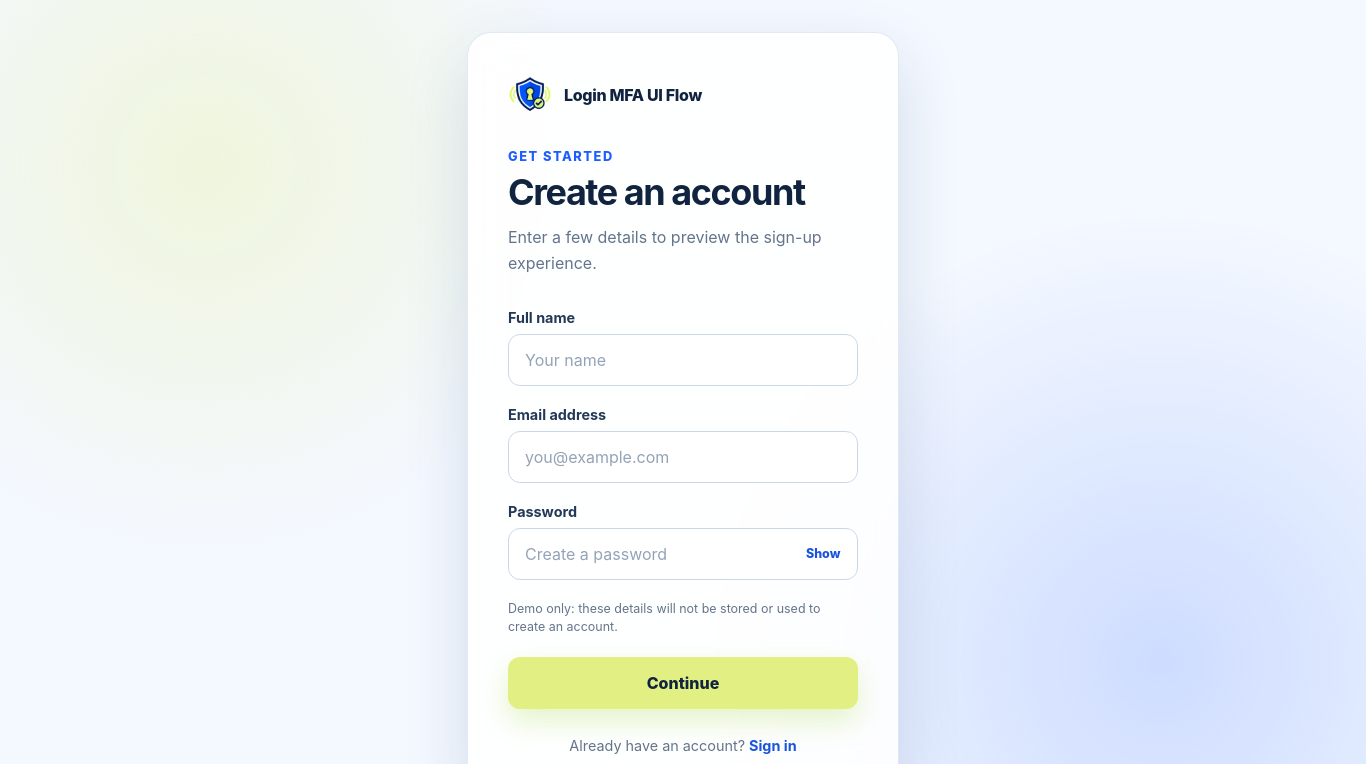
Test: application authentication flow › shows an error when Sign Up uses an existing mock account email
In the field labelled "Full name": [683, 360] box [508, 334, 858, 386], type "Existing User"
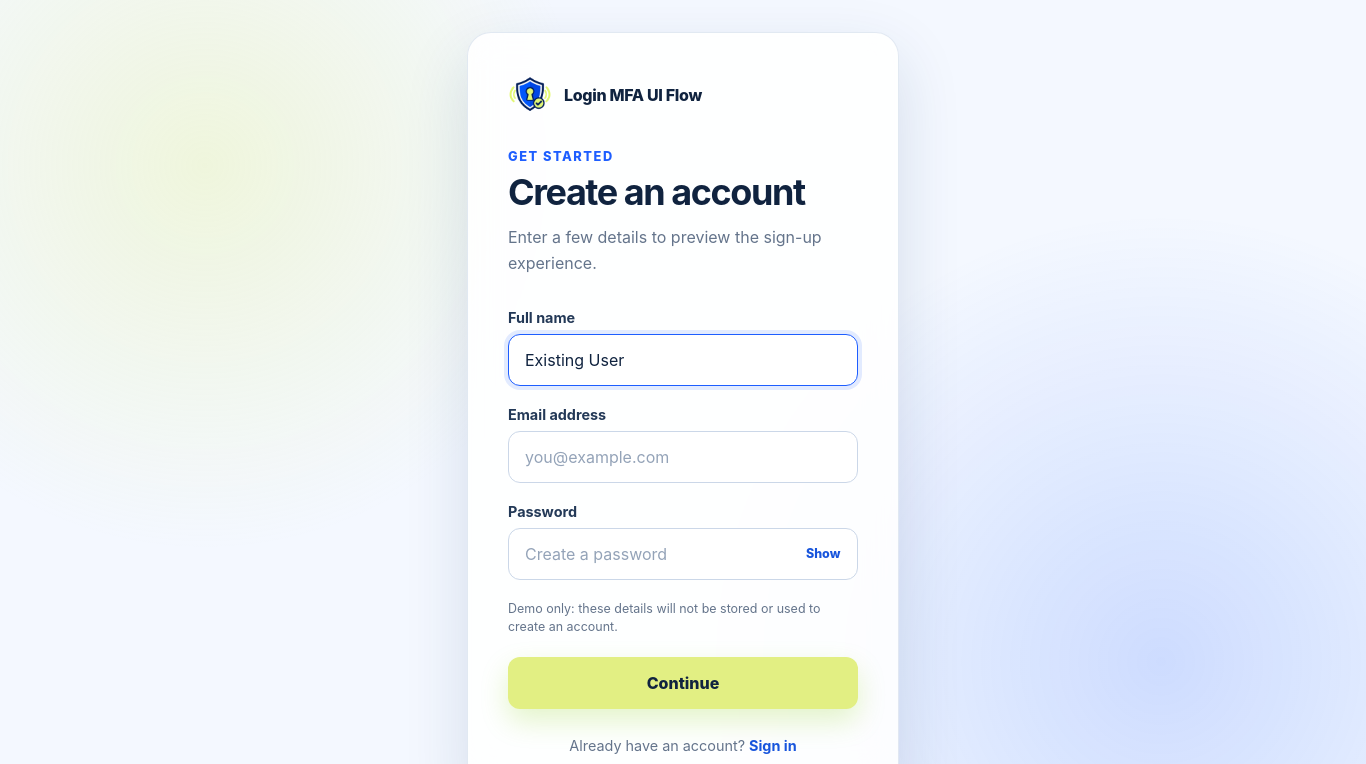
In the field labelled "Email address": [683, 457] box [508, 431, 858, 483], type "VIEWER@example.com"
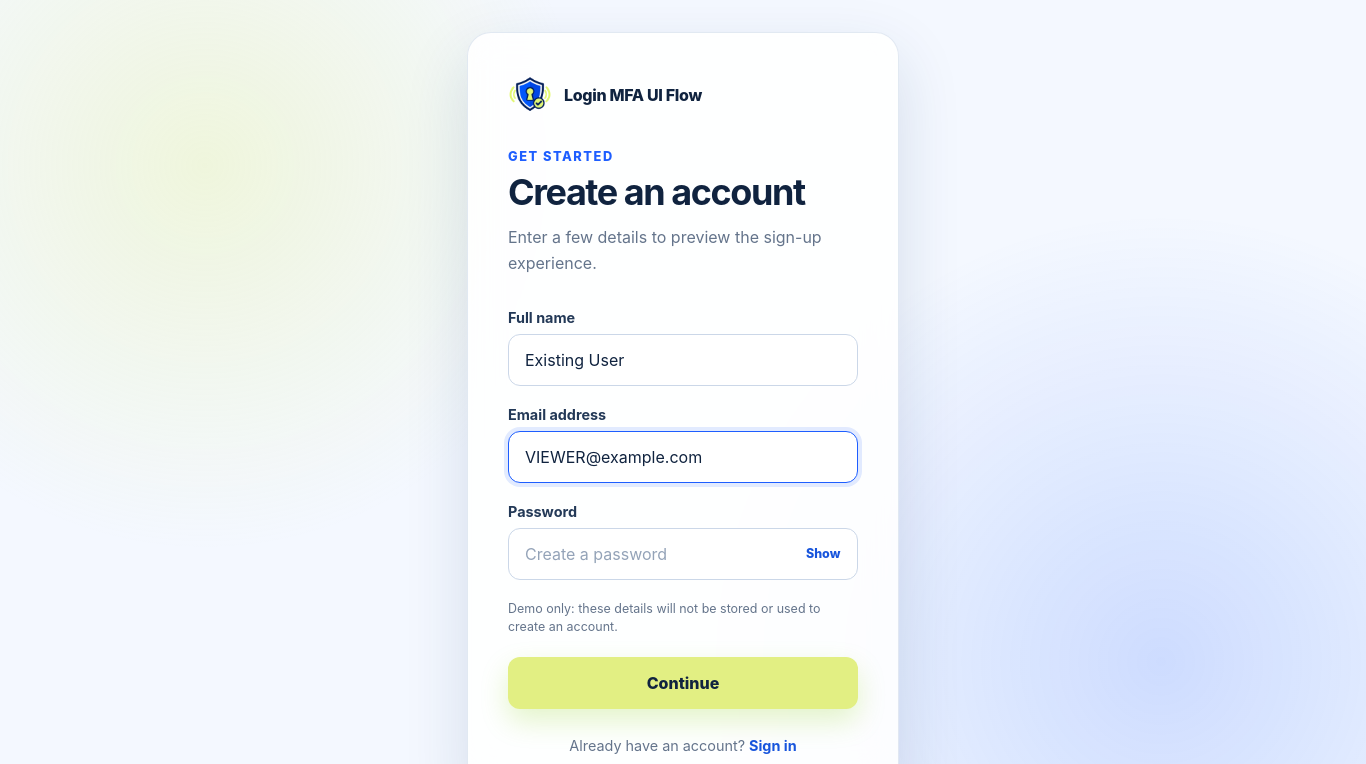
In the password field labelled "Password": [683, 554] box [508, 528, 858, 580], type "Password123!"
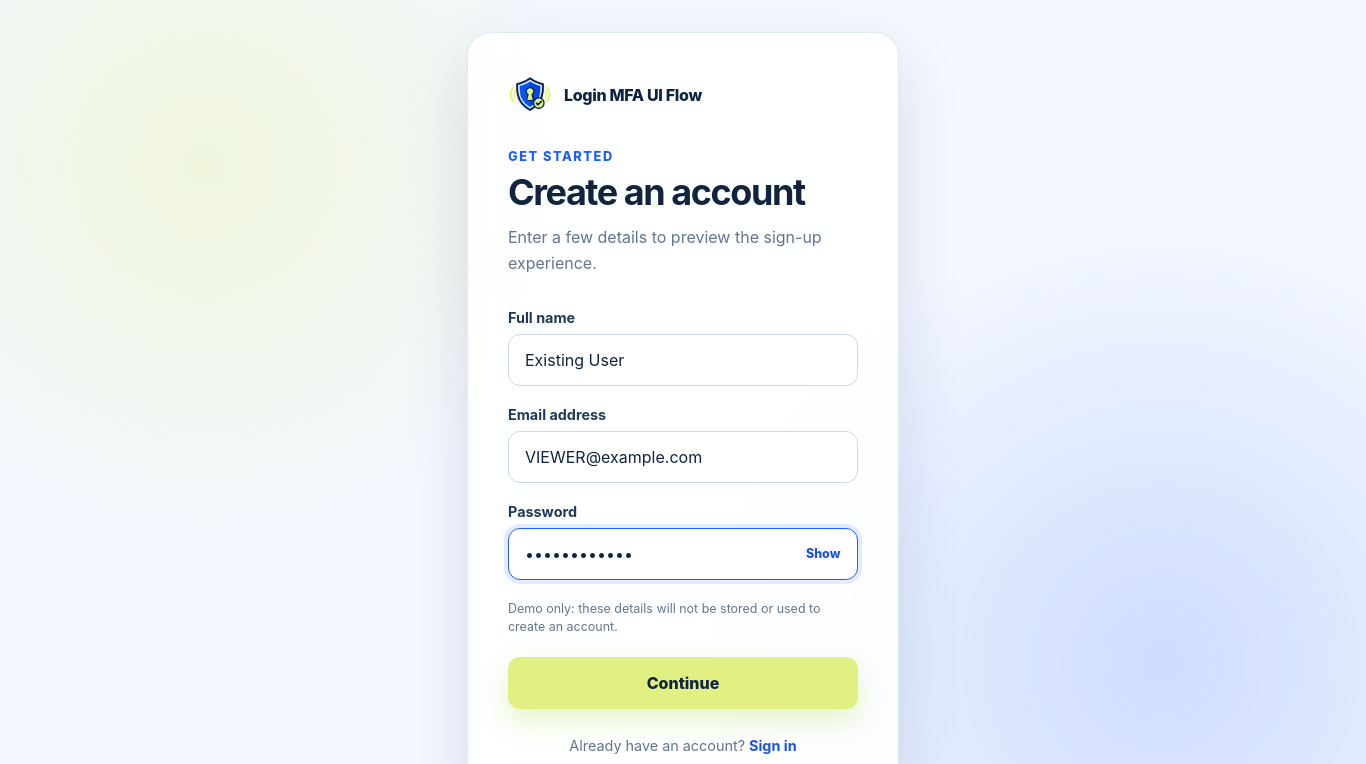
Click the button "Continue": [683, 683] box [508, 657, 858, 709]
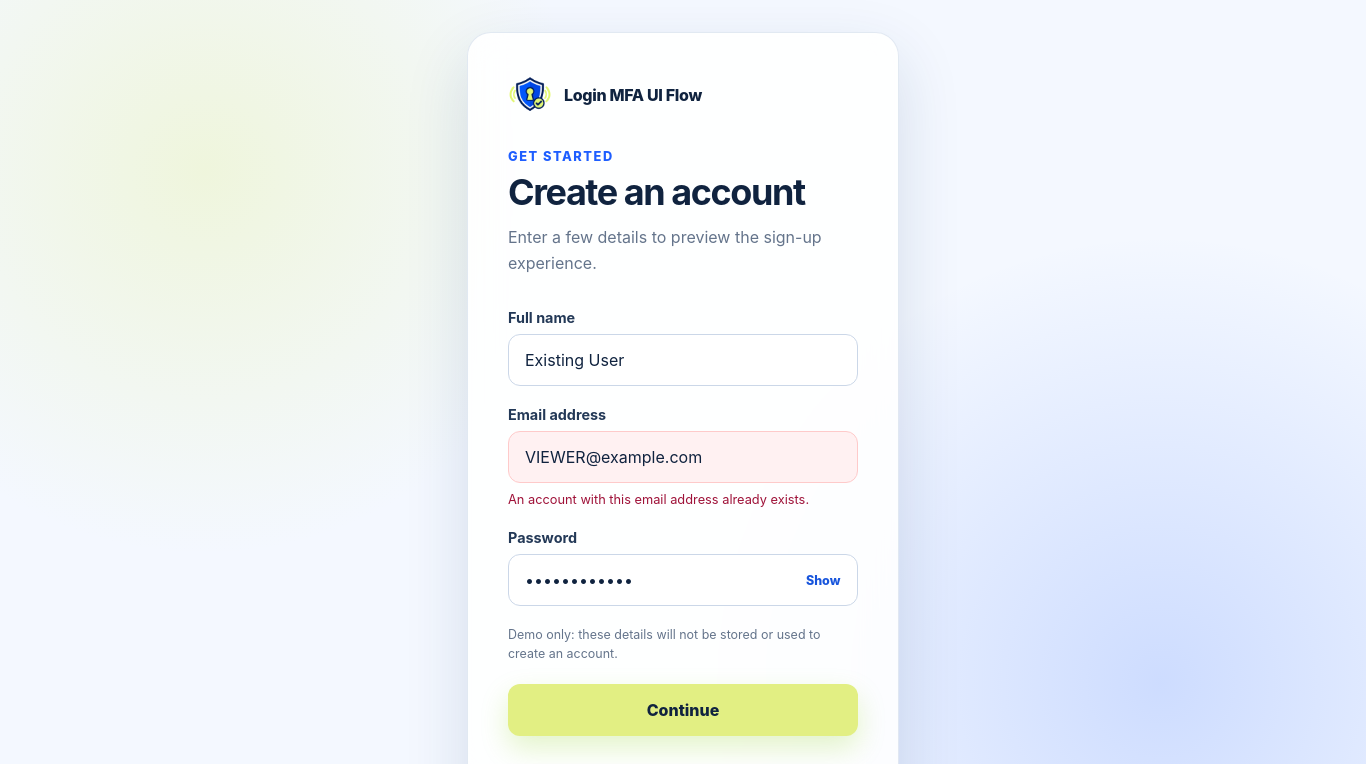
Expected: the heading "Create an account" is shown, [508, 170, 805, 214]
Now the text "An account with this email address already exists." is shown, box [508, 491, 858, 509]
